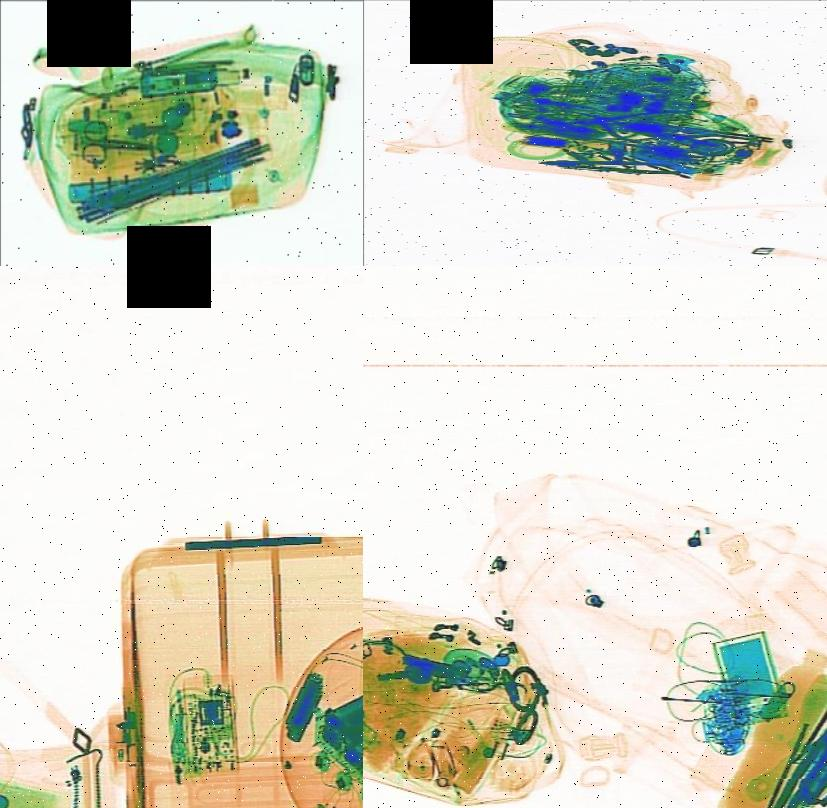Pliers: (765, 679, 827, 808), (572, 100, 684, 145), (535, 155, 680, 174)
Scissors: (74, 116, 158, 168)
